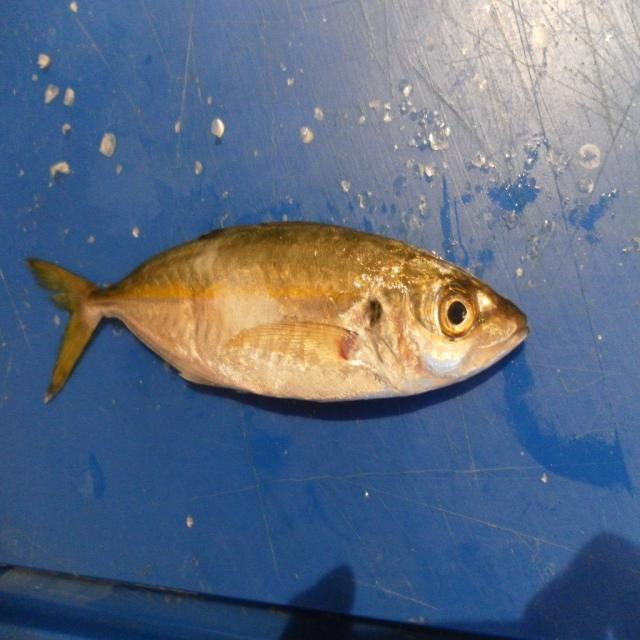Hourse-Mackerel-istavrit-: (28, 222, 531, 406)
